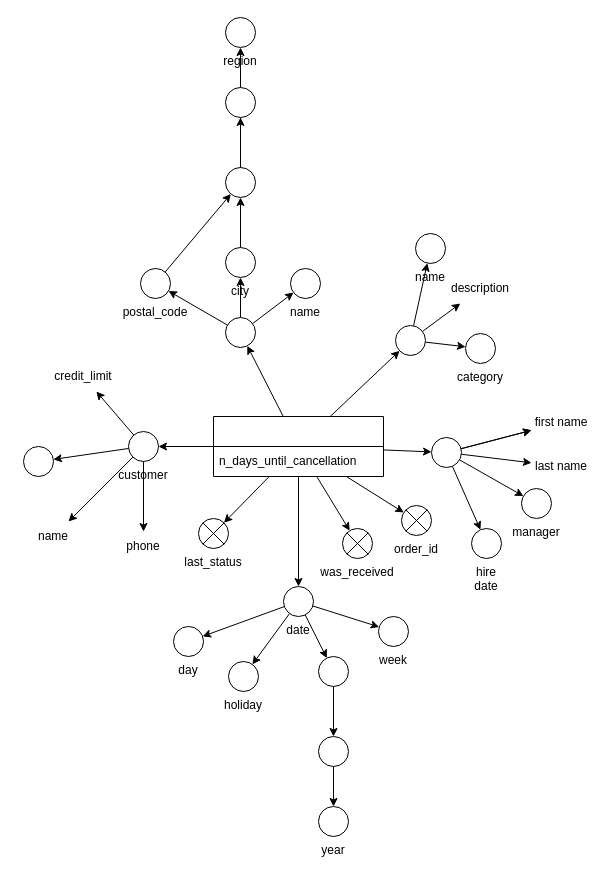
This 609x875 diagram has some shape labels left out. Here are the shapes that lost their labels. From the top down, the box of each, then its label:
(224, 86, 256, 118): country
(224, 166, 256, 198): state
(224, 316, 256, 348): warehouse
(394, 324, 426, 356): product
(22, 446, 54, 476): address
(212, 416, 384, 476): FACT_CANCELATION
(430, 436, 462, 468): employee
(318, 656, 348, 686): month
(318, 736, 348, 766): quarter
